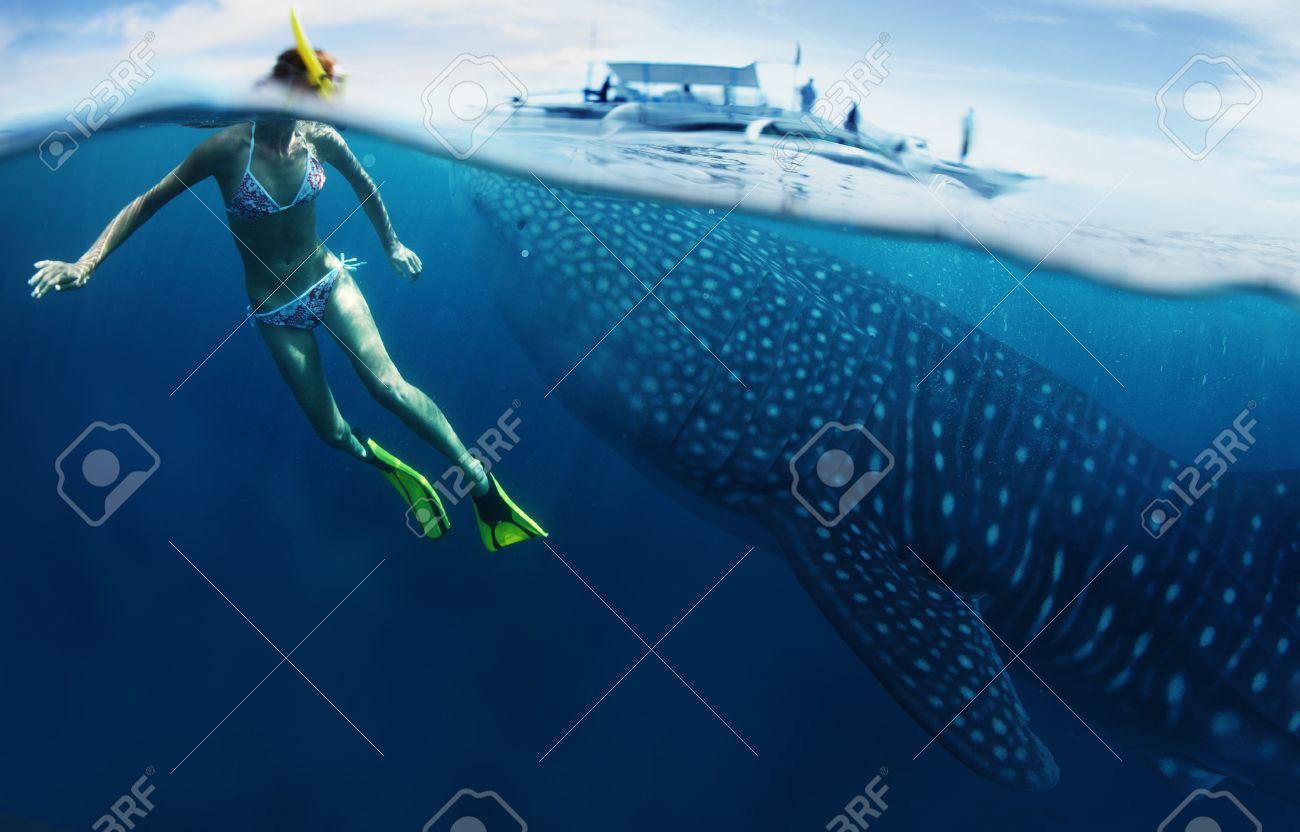Rhincodon_typusw: (454, 171, 1300, 804)
